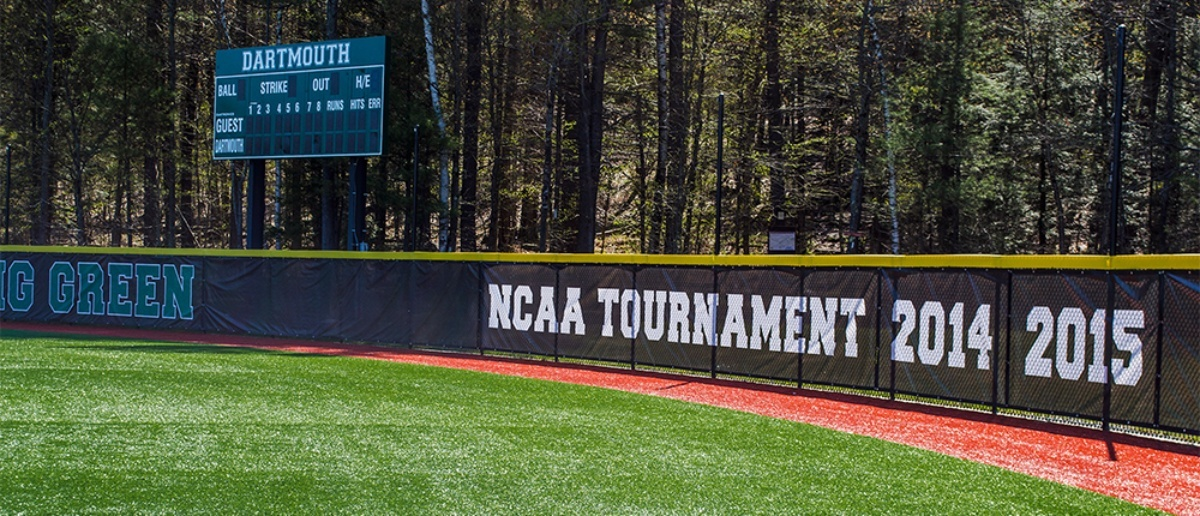text: (1025, 305, 1040, 391), (1041, 305, 1056, 391), (1057, 305, 1072, 391), (1073, 305, 1088, 391), (1089, 305, 1104, 391), (1105, 305, 1120, 391), (1121, 305, 1136, 391), (977, 299, 993, 374), (897, 299, 912, 374), (913, 299, 928, 374), (929, 299, 944, 374), (945, 299, 960, 374), (961, 299, 976, 374), (609, 287, 624, 359), (625, 287, 640, 359), (641, 287, 656, 359), (657, 287, 672, 359), (673, 287, 688, 359), (689, 287, 704, 359), (705, 287, 720, 359), (721, 287, 736, 359), (737, 287, 752, 359), (753, 287, 768, 359), (769, 287, 784, 359), (785, 287, 800, 359), (801, 287, 816, 359), (817, 287, 832, 359), (833, 287, 848, 359), (849, 287, 864, 359), (1137, 305, 1149, 391), (49, 261, 64, 321), (65, 261, 80, 321), (81, 261, 96, 321), (97, 261, 112, 321), (113, 261, 128, 321), (129, 261, 144, 321), (145, 261, 160, 321), (161, 261, 176, 321), (177, 261, 192, 321), (17, 260, 32, 313), (497, 284, 512, 337), (513, 284, 528, 337), (529, 284, 544, 337), (545, 284, 560, 337), (561, 284, 576, 337), (597, 287, 608, 359), (5, 260, 16, 313), (577, 284, 586, 337), (890, 299, 896, 374), (488, 284, 496, 337), (257, 43, 272, 71), (273, 43, 288, 71), (289, 43, 304, 71), (305, 43, 320, 71), (321, 43, 336, 71), (242, 43, 256, 71), (337, 43, 351, 71), (225, 136, 240, 157), (273, 79, 289, 95), (225, 117, 240, 134), (355, 74, 368, 91), (214, 136, 224, 157), (225, 83, 238, 98), (260, 79, 272, 95), (193, 261, 196, 321), (353, 97, 365, 111), (241, 136, 249, 157), (321, 77, 332, 92), (277, 101, 288, 116), (215, 117, 224, 134), (369, 97, 381, 109), (307, 101, 320, 112), (326, 99, 336, 111), (295, 100, 304, 113), (33, 260, 35, 313), (313, 77, 320, 92), (248, 104, 256, 116), (337, 99, 345, 111), (218, 83, 224, 98), (265, 103, 272, 115), (865, 287, 866, 359), (369, 74, 373, 91), (257, 104, 262, 116), (47, 261, 48, 321), (241, 117, 244, 134), (316, 100, 320, 112), (285, 101, 288, 115), (349, 97, 352, 111), (289, 101, 291, 115), (321, 100, 322, 112)
